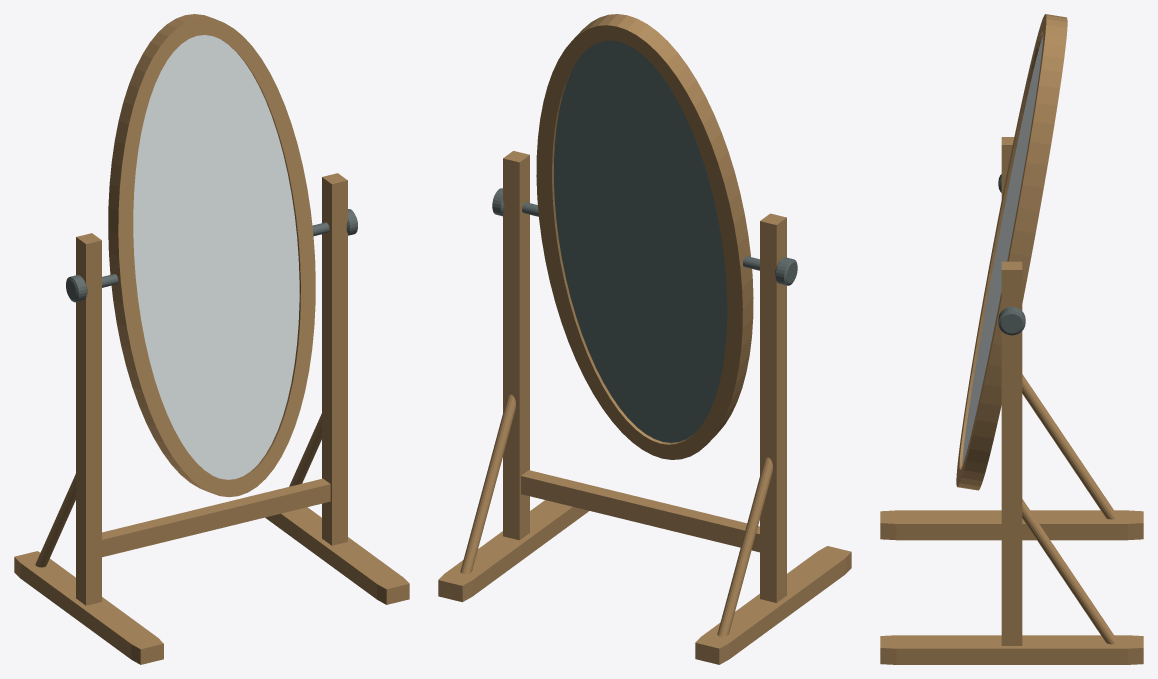
The picture shows the model from 3 angles, left to right: view 1: azimuth 30°, elevation 25°; view 2: azimuth 150°, elevation 25°; view 3: azimuth 270°, elevation 25°; orthographic projection. The views are drawn at different scales.
Parts seen in each view (by area): view 1: RecessedWholeMetallicMirrorBody, WholeOvalRetainingFrame, FreeUprightPost_-1, FreeUprightPost_1, LowWholeTransverseTie, LongWholeGroundRunner_-1, LongWholeGroundRunner_1, RearDiagonalStandBrace_-1, RearDiagonalStandBrace_1; view 2: WholeOvalBackboard, WholeOvalRetainingFrame, FreeUprightPost_-1, FreeUprightPost_1, LowWholeTransverseTie, LongWholeGroundRunner_-1, LongWholeGroundRunner_1, RearDiagonalStandBrace_-1, RearDiagonalStandBrace_1; view 3: WholeOvalRetainingFrame, FreeUprightPost_1, LongWholeGroundRunner_1, LongWholeGroundRunner_-1, RecessedWholeMetallicMirrorBody, RearDiagonalStandBrace_1, RearDiagonalStandBrace_-1, FixedOuterPivotKnob_1, FreeUprightPost_-1.
Part boxes in pixels (bbox=[...]): RecessedWholeMetallicMirrorBody: bbox=[133, 35, 299, 479]; WholeOvalRetainingFrame: bbox=[108, 14, 315, 497]; FreeUprightPost_-1: bbox=[76, 233, 101, 605]; FreeUprightPost_1: bbox=[322, 173, 347, 545]; LowWholeTransverseTie: bbox=[102, 478, 330, 557]; LongWholeGroundRunner_-1: bbox=[14, 551, 163, 664]; LongWholeGroundRunner_1: bbox=[265, 507, 409, 604]; RearDiagonalStandBrace_-1: bbox=[35, 474, 75, 567]; RearDiagonalStandBrace_1: bbox=[289, 413, 321, 486]; WholeOvalBackboard: bbox=[554, 40, 727, 442]; WholeOvalRetainingFrame: bbox=[536, 14, 753, 459]; FreeUprightPost_-1: bbox=[760, 213, 786, 602]; FreeUprightPost_1: bbox=[503, 151, 529, 540]; LowWholeTransverseTie: bbox=[521, 470, 759, 552]; LongWholeGroundRunner_-1: bbox=[695, 546, 851, 664]; LongWholeGroundRunner_1: bbox=[438, 500, 588, 602]; RearDiagonalStandBrace_-1: bbox=[717, 457, 772, 636]; RearDiagonalStandBrace_1: bbox=[460, 394, 515, 573]; WholeOvalRetainingFrame: bbox=[956, 14, 1067, 490]; FreeUprightPost_1: bbox=[1001, 261, 1022, 645]; LongWholeGroundRunner_1: bbox=[880, 635, 1143, 664]; LongWholeGroundRunner_-1: bbox=[880, 510, 1143, 540]; RecessedWholeMetallicMirrorBody: bbox=[962, 35, 1043, 465]; RearDiagonalStandBrace_1: bbox=[1022, 499, 1118, 644]; RearDiagonalStandBrace_-1: bbox=[1022, 374, 1118, 519]; FixedOuterPivotKnob_1: bbox=[998, 307, 1025, 335]; FreeUprightPost_-1: bbox=[1001, 137, 1014, 198].
Bounding box in the file's own units: 0.848 × 1.59 × 0.66.
